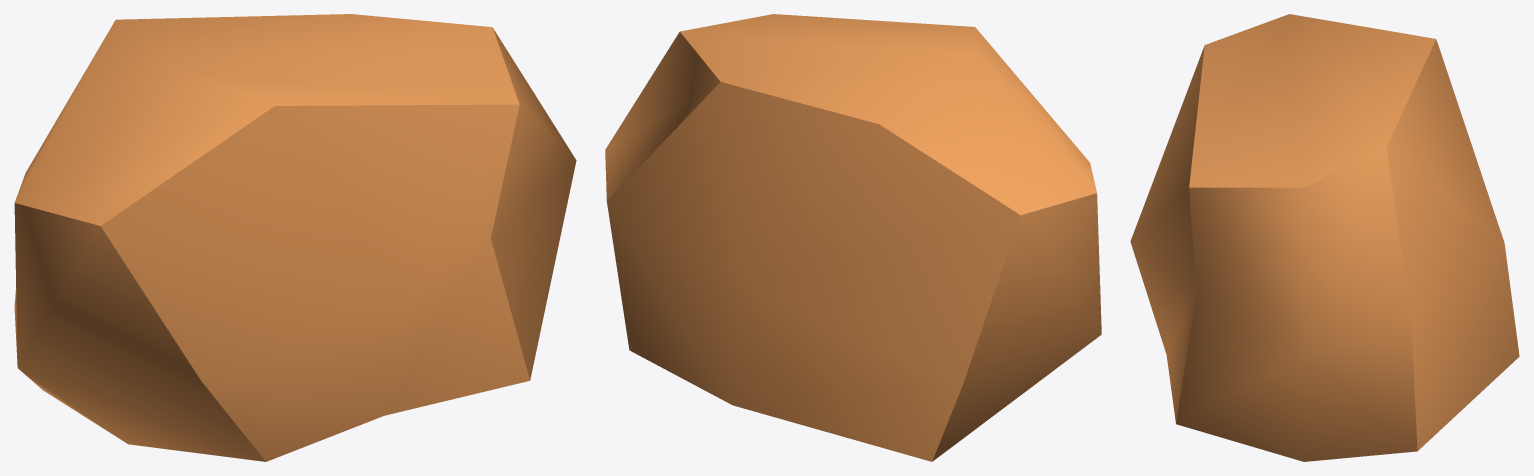
The model's file is SM_SmallRock_5.FBX.
The picture shows the model from 3 angles, left to right: view 1: azimuth 30°, elevation 25°; view 2: azimuth 150°, elevation 25°; view 3: azimuth 270°, elevation 25°; orthographic projection. The views are drawn at different scales.
Visible parts, largest first — view 1: Rock 5; view 2: Rock 5; view 3: Rock 5.
Part boxes in pixels (x1,y1,x2,y2): Rock 5: (14,14,576,461); Rock 5: (605,14,1101,461); Rock 5: (1130,14,1519,461).
Size of the model in its own units: 46.38 by 29.84 by 32.29.
